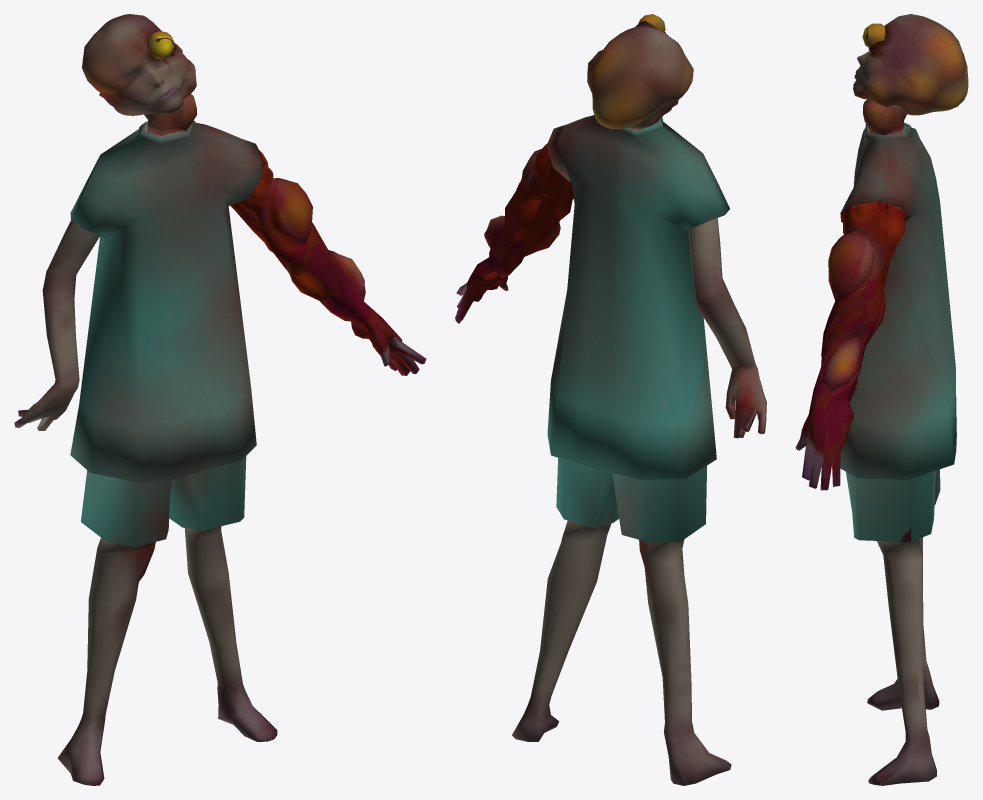
Rendered from Monster.fbx.
3 views of the same model, side by side, from view 1: azimuth 30°, elevation 25°; view 2: azimuth 150°, elevation 25°; view 3: azimuth 270°, elevation 25° (orthographic). The views are drawn at different scales.
Parts seen in each view (by area): view 1: Main; view 2: Main; view 3: Main, Eye.
Boxes of the visible parts, x1,y1,x2,y2 form: Main: [14, 14, 426, 785]; Main: [455, 20, 766, 785]; Main: [795, 14, 968, 785]; Eye: [862, 23, 885, 47].
Bounding box in the file's own units: 2533 × 4972 × 1093.
2 materials, 2 textured.
